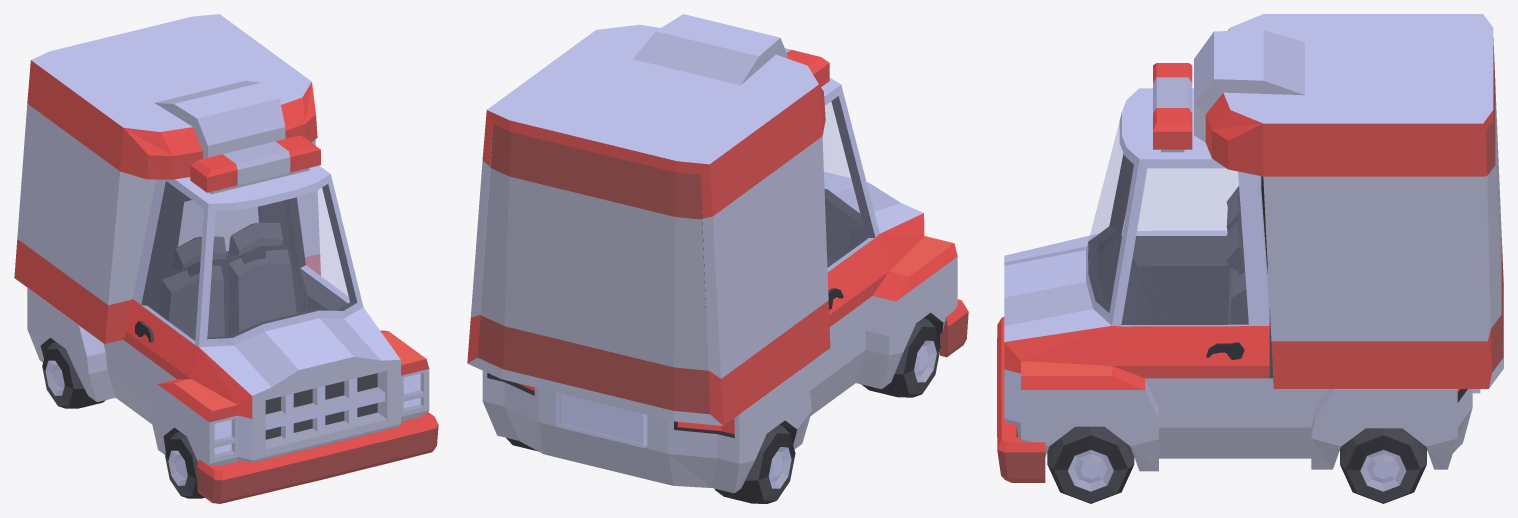
File: emergency-response-vehicle.glb
The picture shows the model from 3 angles, left to right: view 1: azimuth 30°, elevation 25°; view 2: azimuth 150°, elevation 25°; view 3: azimuth 270°, elevation 25°; orthographic projection. The views are drawn at different scales.
Visible parts, largest first — view 1: Car02_3_Ambulance, Car02_3_AdB.001, Car02_3_DR.001, Car02_3_AdF.001, Car02_3_Ambulance_AdT, Car02_3_DL.001, Car02_3_WhBR.001, Car02_3_WhFR.001; view 2: Car02_3_AdB.001, Car02_3_Ambulance, Car02_3_DR.001, Car02_3_WhBR.001, Car02_3_WhFR.001, Car02_3_AdF.001, Car02_3_Ambulance_AdT; view 3: Car02_3_AdB.001, Car02_3_Ambulance, Car02_3_DL.001, Car02_3_DR.001, Car02_3_WhBL.001, Car02_3_WhFL.001, Car02_3_Ambulance_AdT, Car02_3_AdF.001.
Boxes of the visible parts, bbox=[...] form: Car02_3_Ambulance: bbox=[27, 165, 429, 465]; Car02_3_AdB.001: bbox=[14, 14, 320, 343]; Car02_3_DR.001: bbox=[133, 181, 203, 410]; Car02_3_AdF.001: bbox=[197, 412, 438, 503]; Car02_3_Ambulance_AdT: bbox=[190, 135, 320, 194]; Car02_3_DL.001: bbox=[297, 188, 349, 310]; Car02_3_WhBR.001: bbox=[42, 342, 105, 408]; Car02_3_WhFR.001: bbox=[165, 432, 204, 498]; Car02_3_AdB.001: bbox=[467, 14, 830, 425]; Car02_3_Ambulance: bbox=[482, 78, 957, 493]; Car02_3_DR.001: bbox=[817, 96, 876, 395]; Car02_3_WhBR.001: bbox=[715, 425, 795, 503]; Car02_3_WhFR.001: bbox=[861, 318, 940, 397]; Car02_3_AdF.001: bbox=[940, 299, 968, 357]; Car02_3_Ambulance_AdT: bbox=[785, 48, 829, 86]; Car02_3_AdB.001: bbox=[1194, 14, 1503, 388]; Car02_3_Ambulance: bbox=[1004, 88, 1480, 471]; Car02_3_DL.001: bbox=[1121, 168, 1248, 440]; Car02_3_DR.001: bbox=[1121, 169, 1238, 324]; Car02_3_WhBL.001: bbox=[1340, 428, 1426, 503]; Car02_3_WhFL.001: bbox=[1047, 426, 1134, 503]; Car02_3_Ambulance_AdT: bbox=[1153, 63, 1192, 152]; Car02_3_AdF.001: bbox=[997, 317, 1045, 482].
Bounding box in the file's own units: 2.93 × 4.09 × 4.82.
4 materials, 4 textured.
